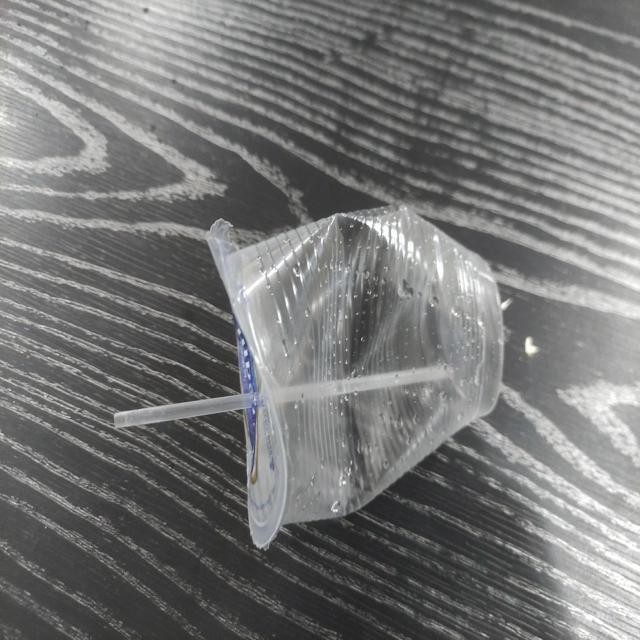GelasPlastik: (101, 178, 526, 559)
